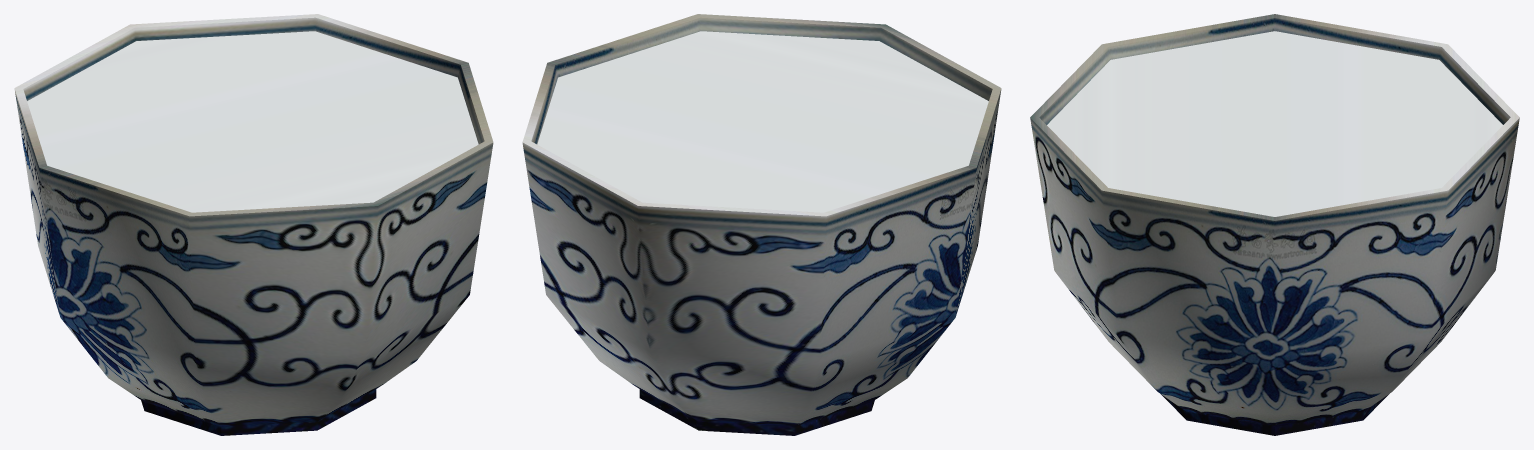
File: AF_M_Prop_28.FBX
3 renders of one model, left to right at view 1: azimuth 30°, elevation 25°; view 2: azimuth 150°, elevation 25°; view 3: azimuth 270°, elevation 25°, orthographic.
Parts seen in each view (by area): view 1: AF_M_Prop_28; view 2: AF_M_Prop_28; view 3: AF_M_Prop_28.
Part boxes in pixels (x1,y1,x2,y2): AF_M_Prop_28: (14, 14, 493, 435); AF_M_Prop_28: (522, 14, 1001, 435); AF_M_Prop_28: (1030, 14, 1519, 435).
Bounding box in the file's own units: 216 × 129 × 216.
1 material, 1 textured.
